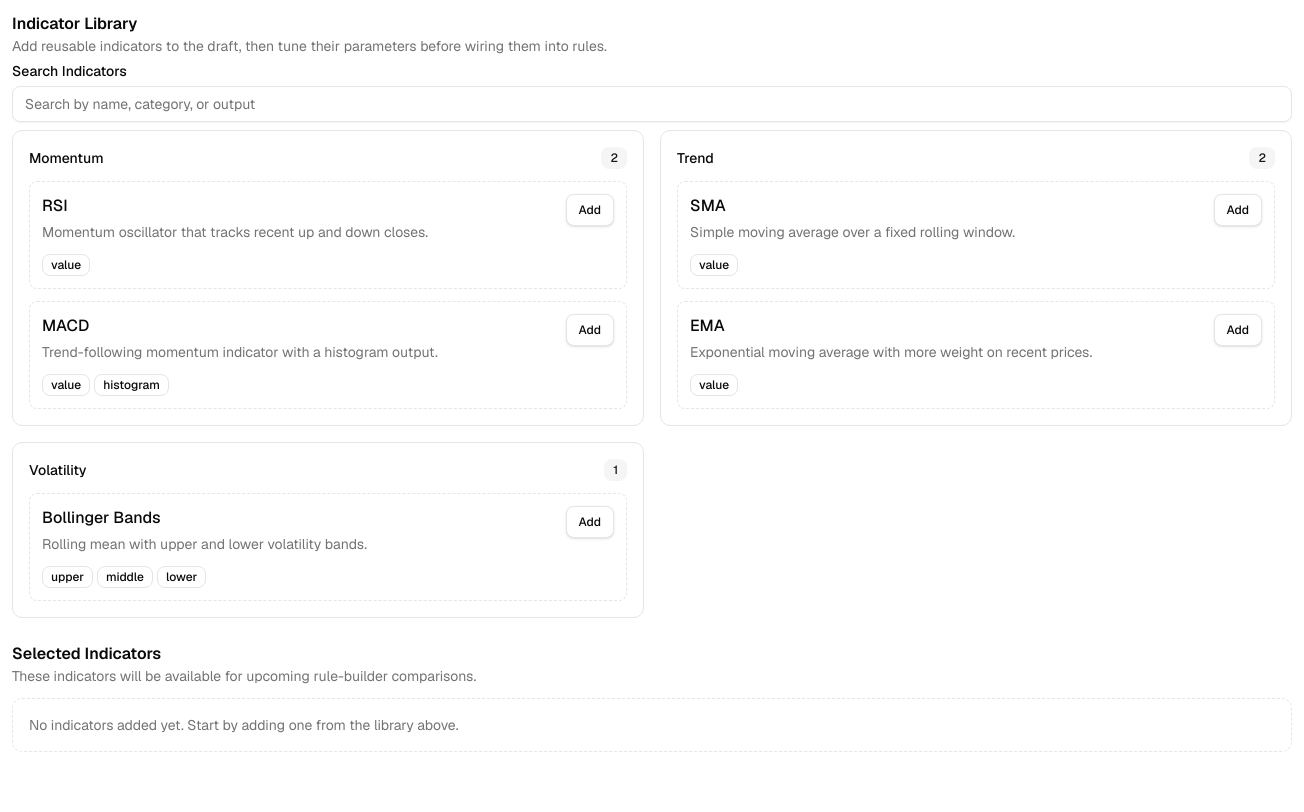
Test: CustomStrategyIndicatorLibrary › shows an empty state when the search has no matches
Type "nonexistent-indicator" into the field with test id "custom-indicator-search-input".
click(652, 104); type("nonexistent-indicator")  # box [12, 86, 1292, 122]
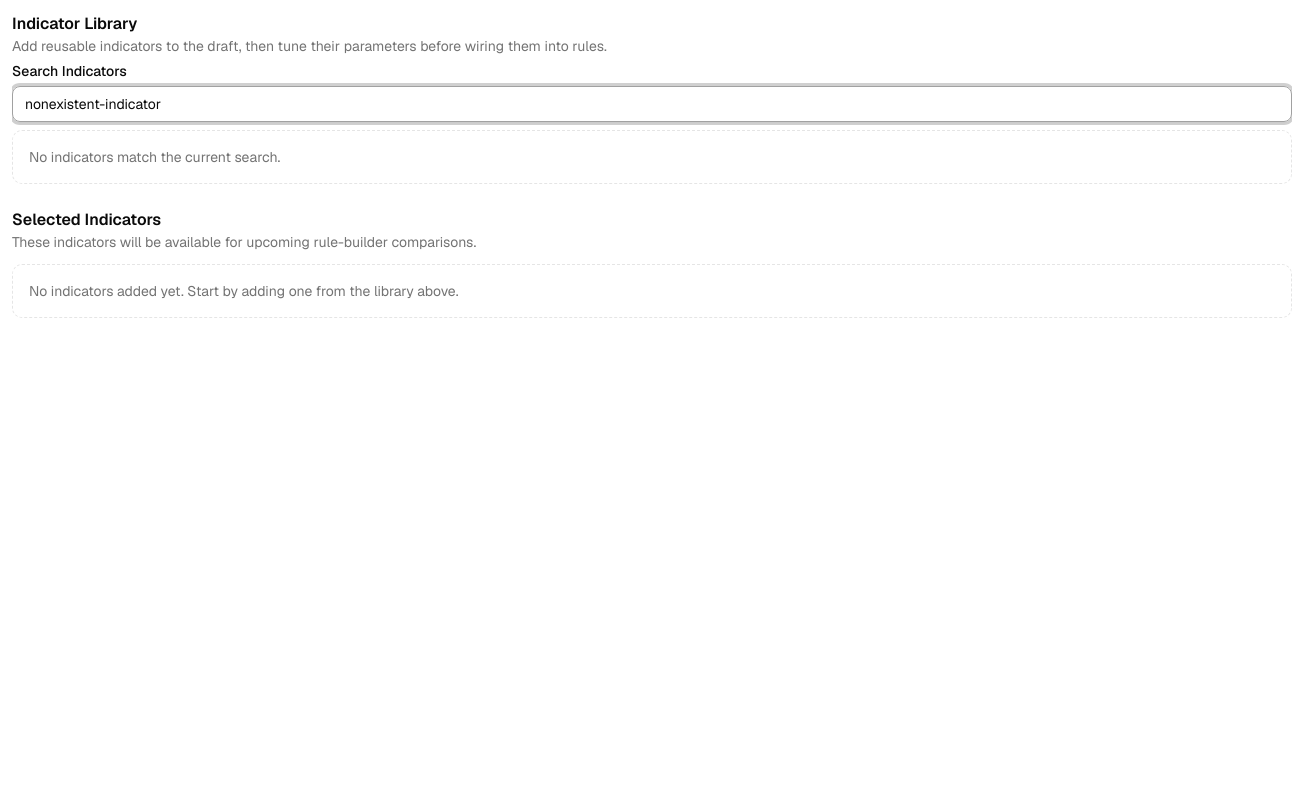
Now the text with test id "indicator-search-empty-state" reads "No indicators match the current search.", box [29, 148, 280, 166]
